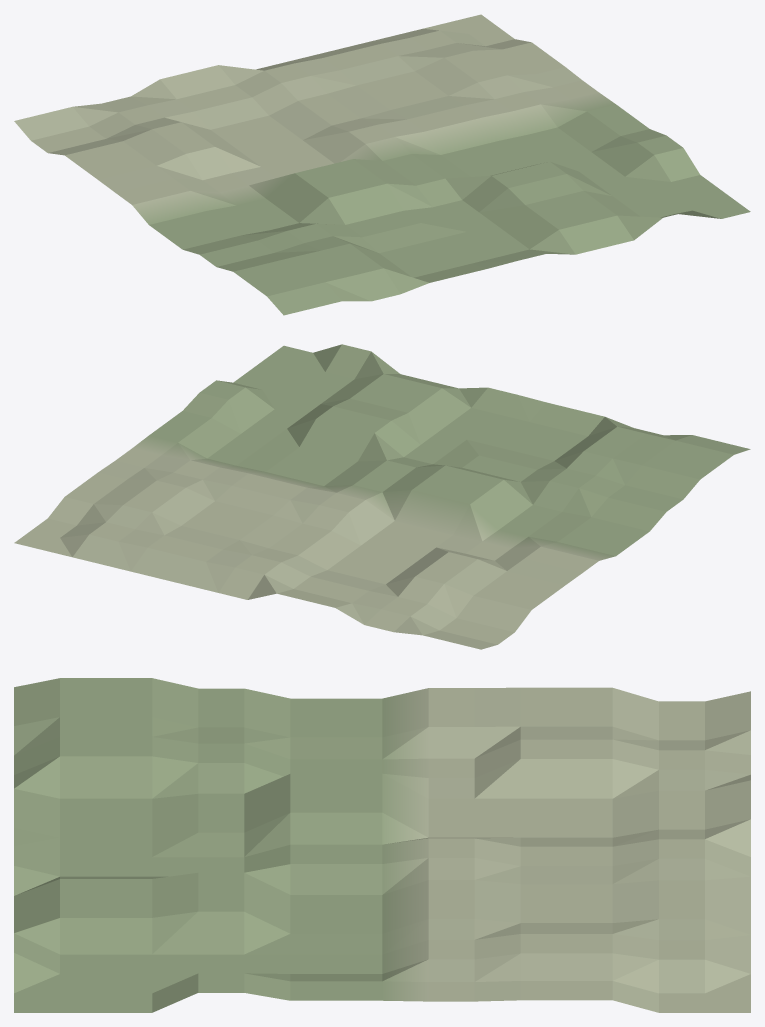
3 renders of one model, top to bottom at view 1: azimuth 30°, elevation 25°; view 2: azimuth 150°, elevation 25°; view 3: azimuth 270°, elevation 25°, orthographic. The views are drawn at different scales.
Bounding box in the file's own units: 32 × 1.2 × 32.
